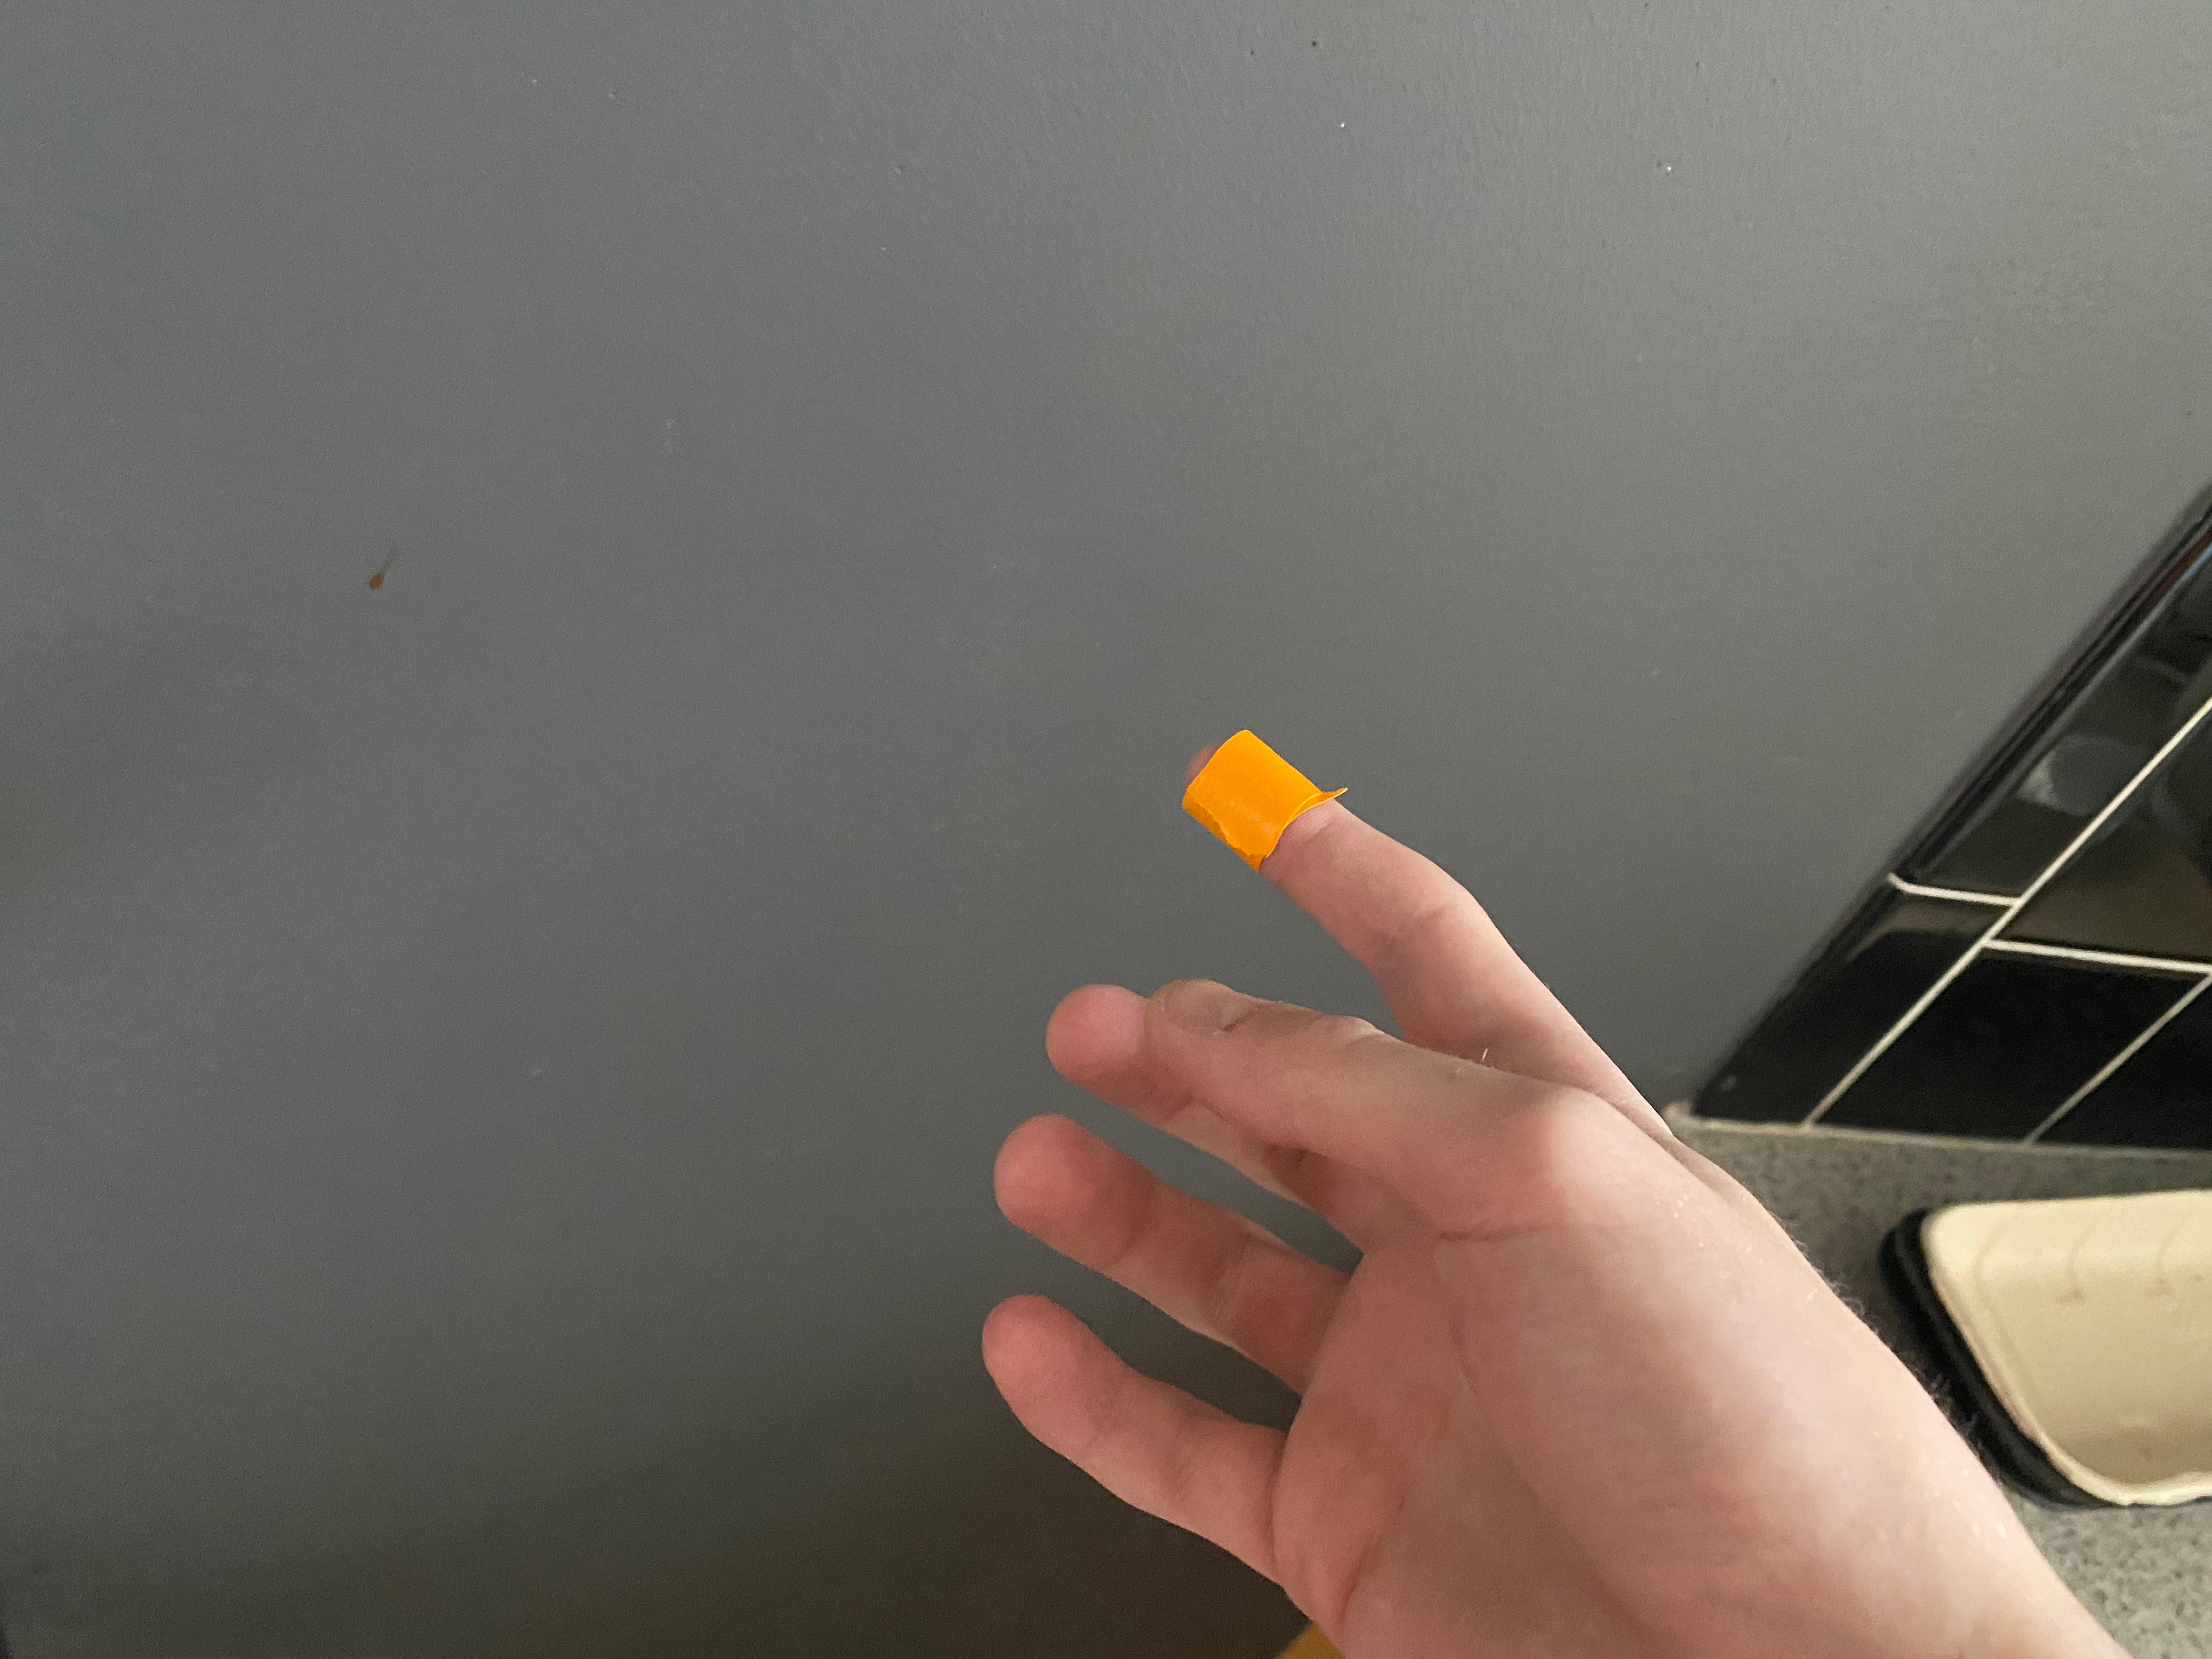fingertip: (1167, 723, 1357, 875)
